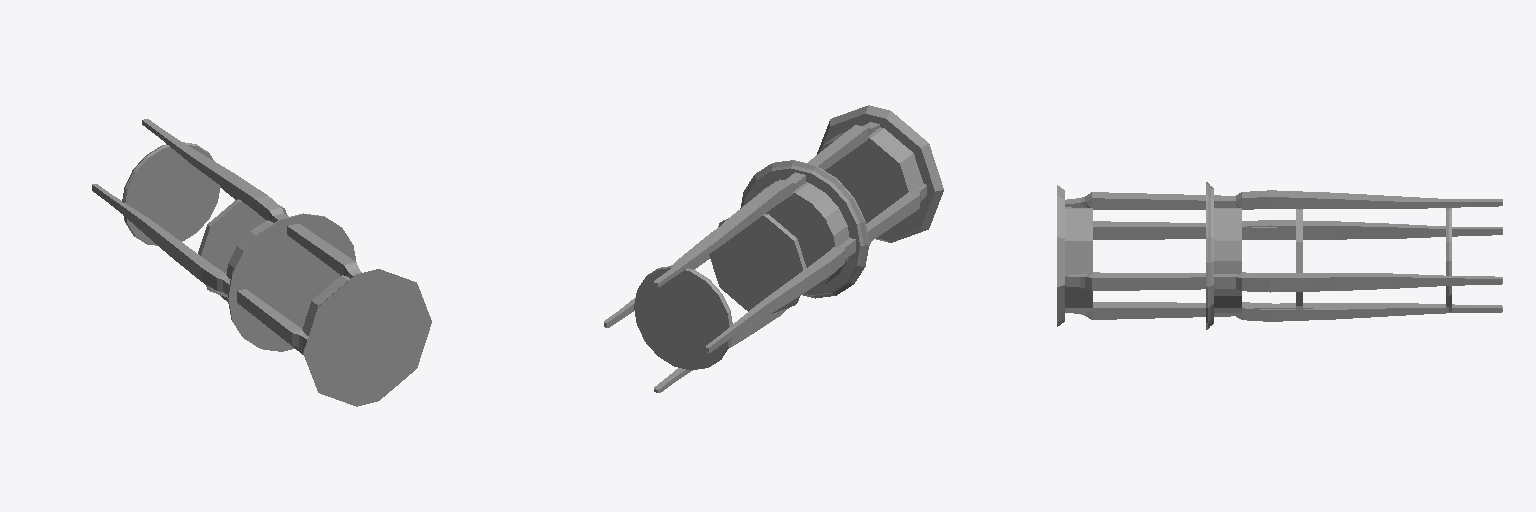
Rendered from bnk_prop_lounge_table_tall.obj.
The picture shows the model from 3 angles: view 1: azimuth 30°, elevation 25°; view 2: azimuth 150°, elevation 25°; view 3: azimuth 270°, elevation 25°; orthographic projection.
Parts seen in each view (by area): view 1: g_bnk_prop_lounge_table_tall, g_bnk_prop_lounge_table_tall_lod1; view 2: g_bnk_prop_lounge_table_tall, g_bnk_prop_lounge_table_tall_lod1; view 3: g_bnk_prop_lounge_table_tall, g_bnk_prop_lounge_table_tall_lod1.
Boxes of the visible parts, <box> form: g_bnk_prop_lounge_table_tall: <box>92,119,355,351</box>; g_bnk_prop_lounge_table_tall_lod1: <box>198,199,431,406</box>; g_bnk_prop_lounge_table_tall: <box>604,160,868,392</box>; g_bnk_prop_lounge_table_tall_lod1: <box>699,105,943,313</box>; g_bnk_prop_lounge_table_tall: <box>1206,182,1502,329</box>; g_bnk_prop_lounge_table_tall_lod1: <box>1057,185,1320,326</box>.
Bounding box in the file's own units: 49.84 × 48.9 × 149.